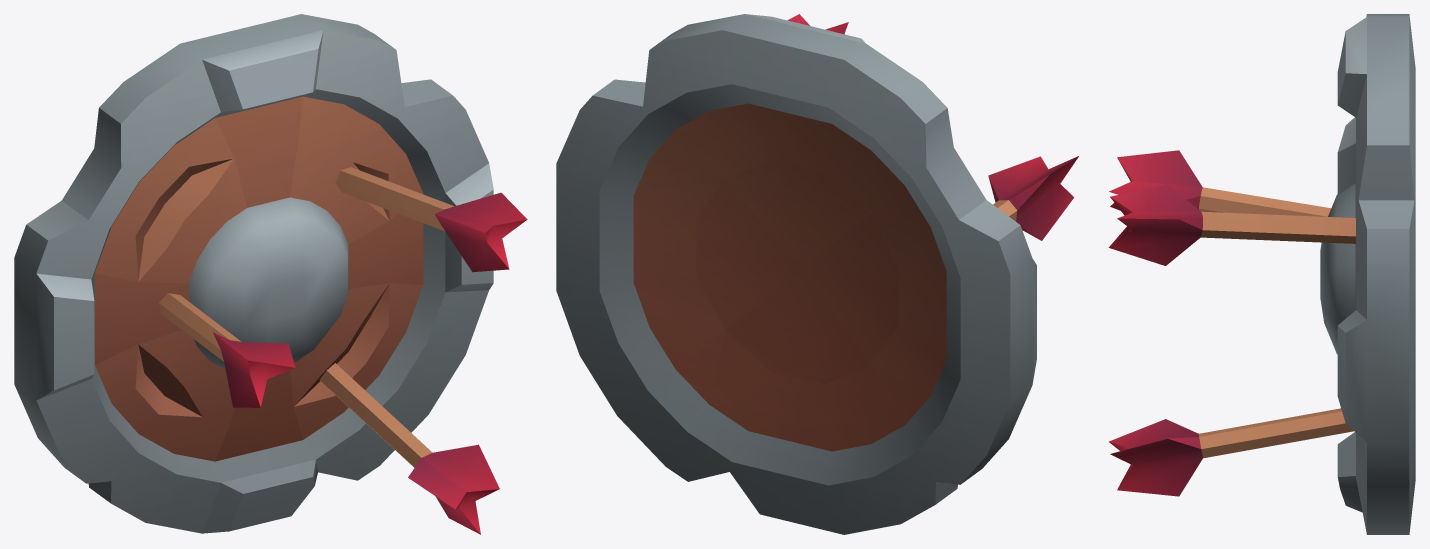
The model's file is skeleton-shield-small-b.glb.
The picture shows the model from 3 angles, left to right: view 1: azimuth 30°, elevation 25°; view 2: azimuth 150°, elevation 25°; view 3: azimuth 270°, elevation 25°; orthographic projection. The views are drawn at different scales.
Parts seen in each view (by area): view 1: Skeleton_Shield_Small_B; view 2: Skeleton_Shield_Small_B; view 3: Skeleton_Shield_Small_B.
Part boxes in pixels (<box>): Skeleton_Shield_Small_B: <box>14,14,527,534</box>; Skeleton_Shield_Small_B: <box>556,14,1078,534</box>; Skeleton_Shield_Small_B: <box>1108,14,1415,534</box>.
Size of the model in its own units: 0.8322 by 0.8322 by 0.5058.
1 material, 1 textured.
